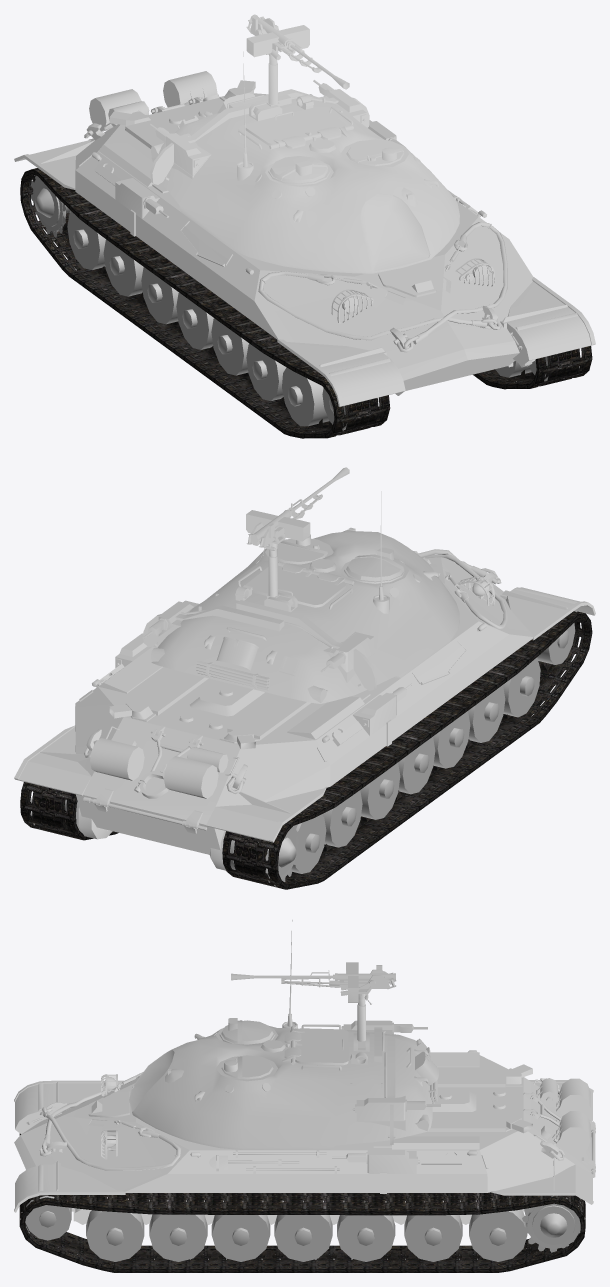
File: tank_buttom.fbx
3 views of the same model, one above another, from view 1: azimuth 30°, elevation 25°; view 2: azimuth 150°, elevation 25°; view 3: azimuth 270°, elevation 25° (orthographic). The views are drawn at different scales.
Parts seen in each view (by area): view 1: vertices, track_RShape, chassis_RShape, track_LShape; view 2: vertices, track_RShape, chassis_RShape, track_LShape; view 3: vertices, track_LShape, chassis_LShape.
Boxes of the visible parts, x1=… form: vertices: x1=14, y1=14, x2=595, y2=406; track_RShape: x1=20, y1=168, x2=390, y2=438; chassis_RShape: x1=31, y1=175, x2=370, y2=430; track_LShape: x1=473, y1=346, x2=592, y2=389; vertices: x1=14, y1=467, x2=595, y2=870; track_RShape: x1=222, y1=611, x2=592, y2=889; chassis_RShape: x1=230, y1=623, x2=575, y2=887; track_LShape: x1=20, y1=782, x2=118, y2=840; vertices: x1=14, y1=920, x2=595, y2=1224; track_LShape: x1=19, y1=1192, x2=585, y2=1272; chassis_LShape: x1=25, y1=1195, x2=585, y2=1261.
Bounding box in the file's own units: 3.34 × 3.71 × 7.28.
